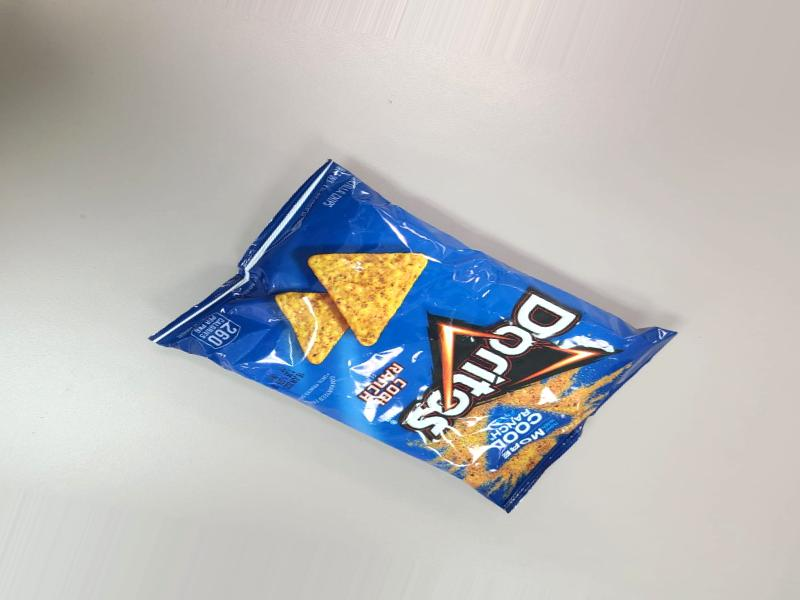doritos: (184, 260, 735, 531)
